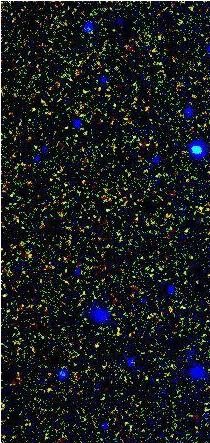star: (83, 331, 113, 361)
